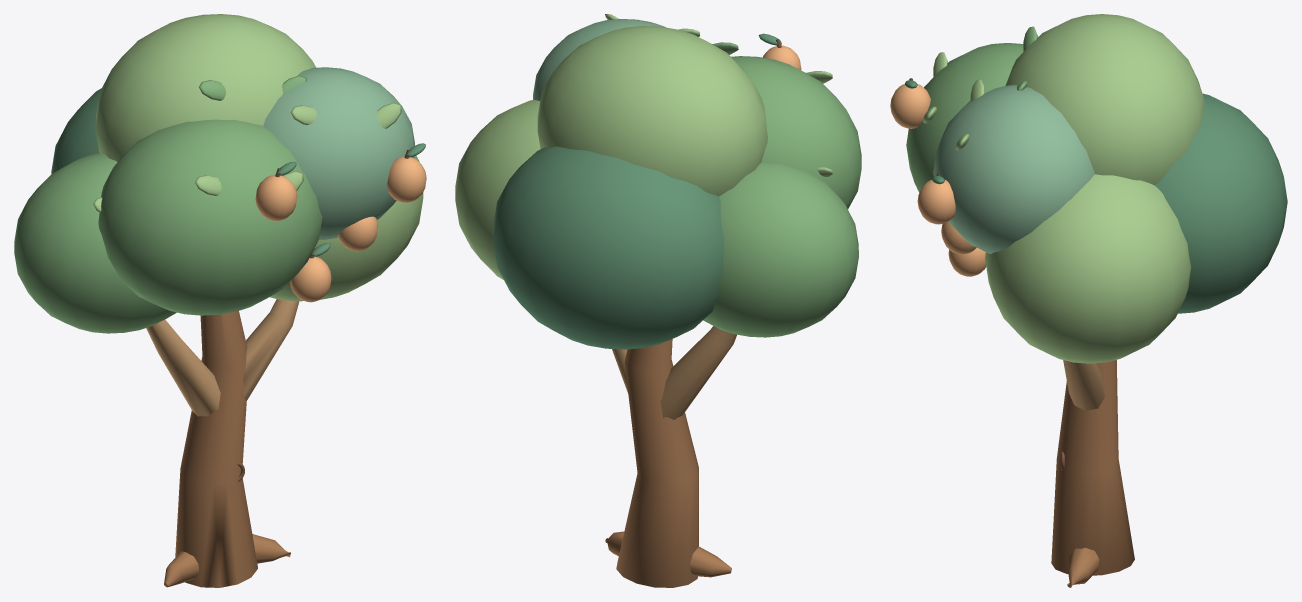
The model's file is arvore-cartoon.obj.
3 renders of one model, left to right at view 1: azimuth 30°, elevation 25°; view 2: azimuth 150°, elevation 25°; view 3: azimuth 270°, elevation 25°, orthographic.
Visible parts, largest first — view 1: volume, curva, folha; view 2: volume, curva, folha; view 3: volume, curva, folha.
Boxes of the visible parts, left/top/right/bottom form: volume: left=14, top=14, right=426, bottom=333; curva: left=146, top=150, right=410, bottom=587; folha: left=93, top=75, right=401, bottom=212; volume: left=455, top=19, right=861, bottom=349; curva: left=605, top=39, right=781, bottom=587; folha: left=605, top=14, right=832, bottom=177; volume: left=890, top=14, right=1287, bottom=363; curva: left=909, top=78, right=1134, bottom=587; folha: left=923, top=26, right=1037, bottom=150.
Size of the model in its own units: 2.43 by 3.26 by 2.18.
1 material, 1 textured.
